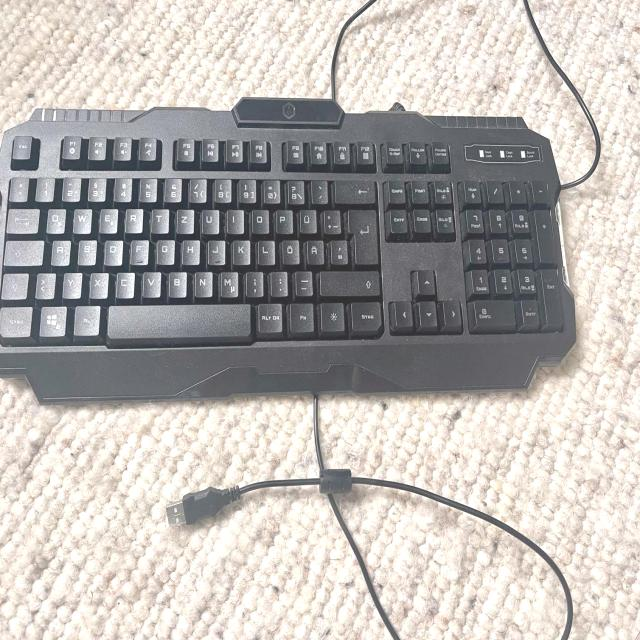0: (261, 176, 280, 202)
1: (34, 174, 54, 200)
2: (60, 174, 80, 201)
3: (86, 174, 106, 200)
4: (112, 174, 132, 200)
5: (137, 175, 157, 201)
6: (162, 175, 182, 201)
7: (187, 176, 206, 202)
8: (211, 176, 231, 202)
9: (236, 176, 256, 202)
a: (49, 238, 70, 265)
accent: (309, 177, 327, 202)
ae: (303, 237, 323, 264)
alt-left: (71, 303, 100, 335)
altgr-right: (255, 300, 282, 332)
b: (166, 269, 186, 296)
c: (113, 269, 134, 296)
caret: (8, 174, 28, 200)
comma: (243, 268, 263, 295)
d: (103, 237, 123, 264)
del: (332, 177, 374, 203)
e: (97, 206, 117, 232)
enter: (346, 206, 378, 264)
f: (128, 237, 148, 263)
g: (154, 237, 174, 263)
h: (180, 237, 200, 263)
hash: (329, 237, 347, 263)
i: (224, 206, 243, 232)
j: (205, 237, 225, 264)
k: (230, 237, 250, 263)
keyboard: (1, 112, 575, 356)
l: (255, 237, 274, 263)
less: (33, 270, 55, 298)
m: (217, 269, 238, 297)
minus: (292, 267, 312, 295)
n: (192, 269, 212, 296)
o: (249, 206, 268, 232)
oe: (279, 237, 299, 263)
p: (274, 206, 292, 232)
plus: (321, 207, 340, 233)
point: (269, 269, 288, 295)
q: (44, 206, 65, 232)
r: (123, 206, 143, 232)
s: (76, 237, 96, 264)
shift-left: (0, 271, 28, 299)
shift-lock: (2, 238, 44, 265)
shift-right: (317, 268, 379, 295)
space: (105, 302, 252, 340)
ss: (285, 177, 304, 203)
strg-left: (0, 303, 32, 337)
strg-right: (348, 299, 382, 332)
t: (149, 206, 169, 232)
tab: (4, 205, 39, 232)
u: (199, 207, 219, 233)
ue: (297, 206, 316, 232)
v: (140, 269, 160, 296)
w: (71, 206, 91, 232)
x: (88, 270, 108, 297)
y: (61, 270, 82, 298)
z: (174, 206, 193, 232)
